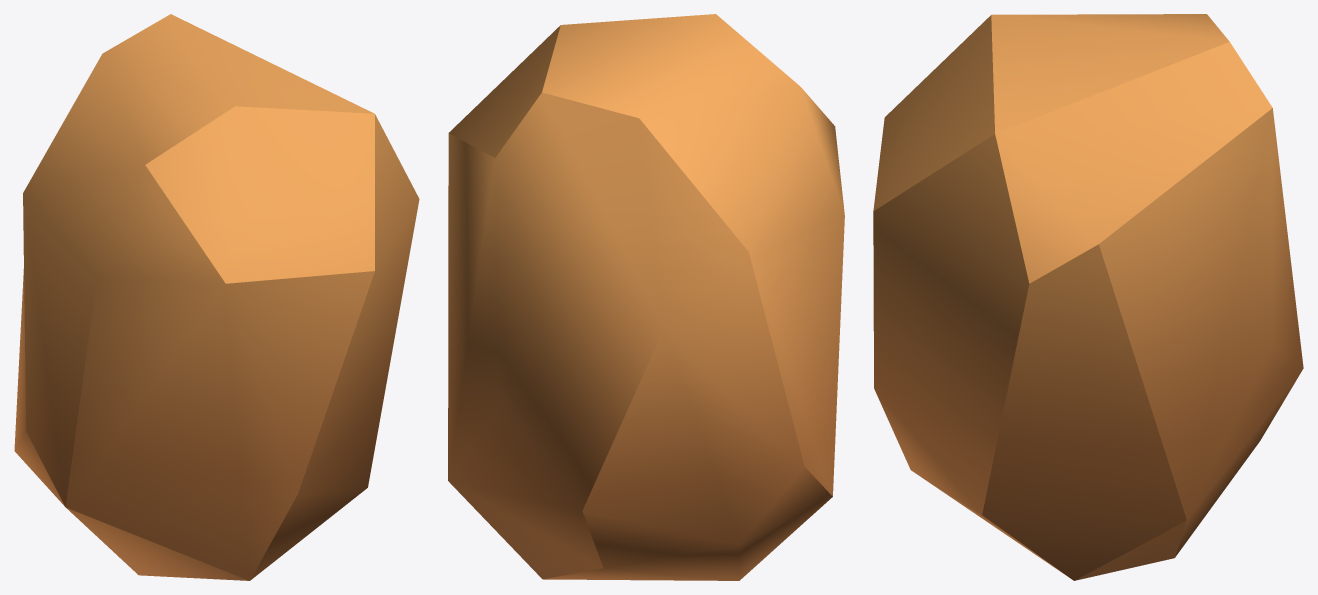
The model's file is GoldNugget1.fbx.
The picture shows the model from 3 angles, left to right: view 1: azimuth 30°, elevation 25°; view 2: azimuth 150°, elevation 25°; view 3: azimuth 270°, elevation 25°; orthographic projection. The views are drawn at different scales.
Visible parts, largest first — view 1: GoldNugget1_LOD0; view 2: GoldNugget1_LOD0; view 3: GoldNugget1_LOD0.
Part boxes in pixels (x1,y1,x2,y2): GoldNugget1_LOD0: (14,14,419,580); GoldNugget1_LOD0: (448,14,844,580); GoldNugget1_LOD0: (873,14,1303,580).
Size of what is drawn, in the model's own units: 0.515 by 0.6822 by 0.521.
